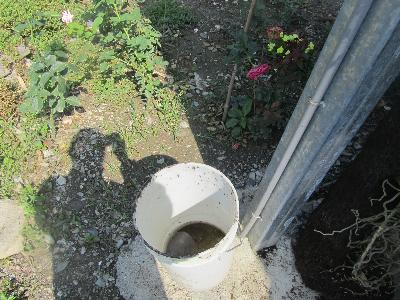bucket: (132, 161, 239, 293)
